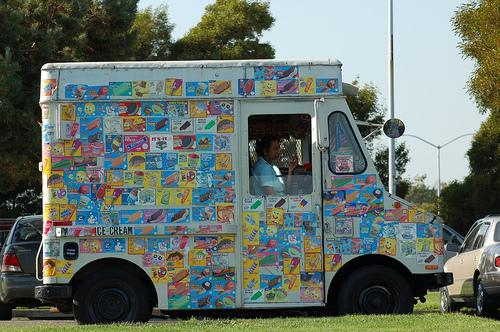truck: (35, 57, 454, 324)
